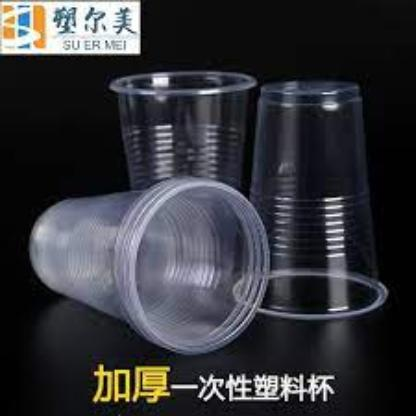Plastic Cup: (13, 172, 268, 348), (248, 74, 380, 312)
